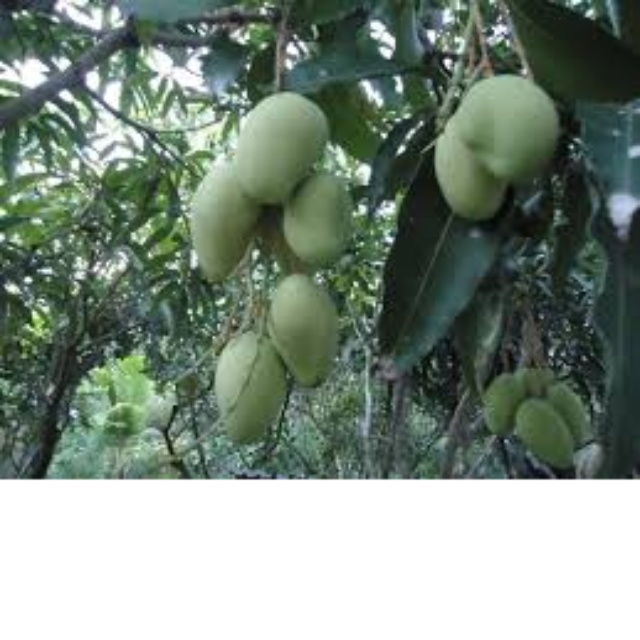thanh_long: (455, 74, 581, 185), (236, 88, 335, 203), (205, 335, 301, 449), (263, 266, 352, 387)
